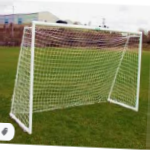goals: (10, 20, 143, 134)
